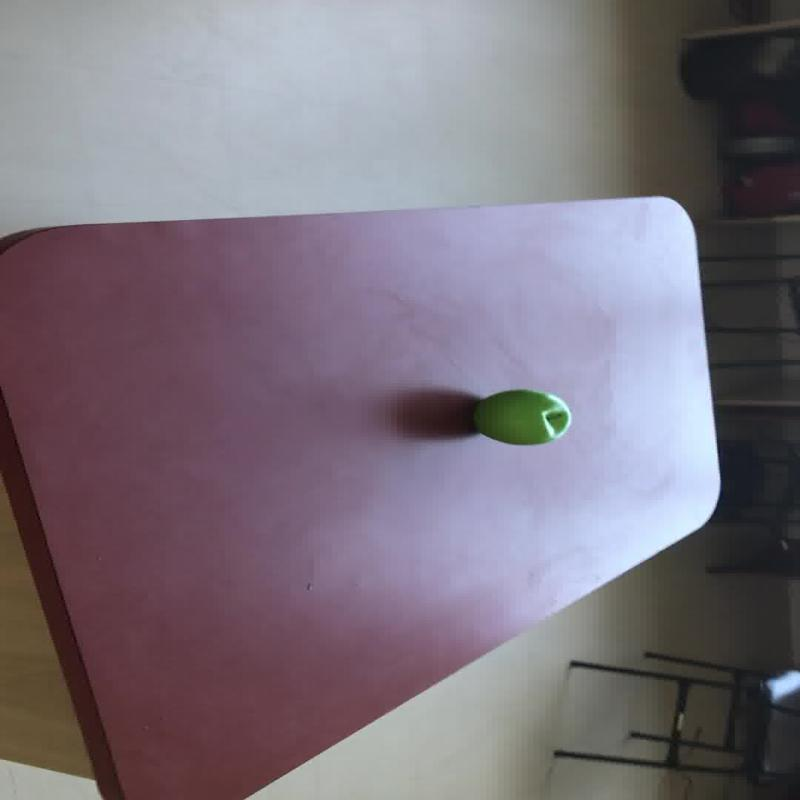apple: (471, 388, 570, 444)
